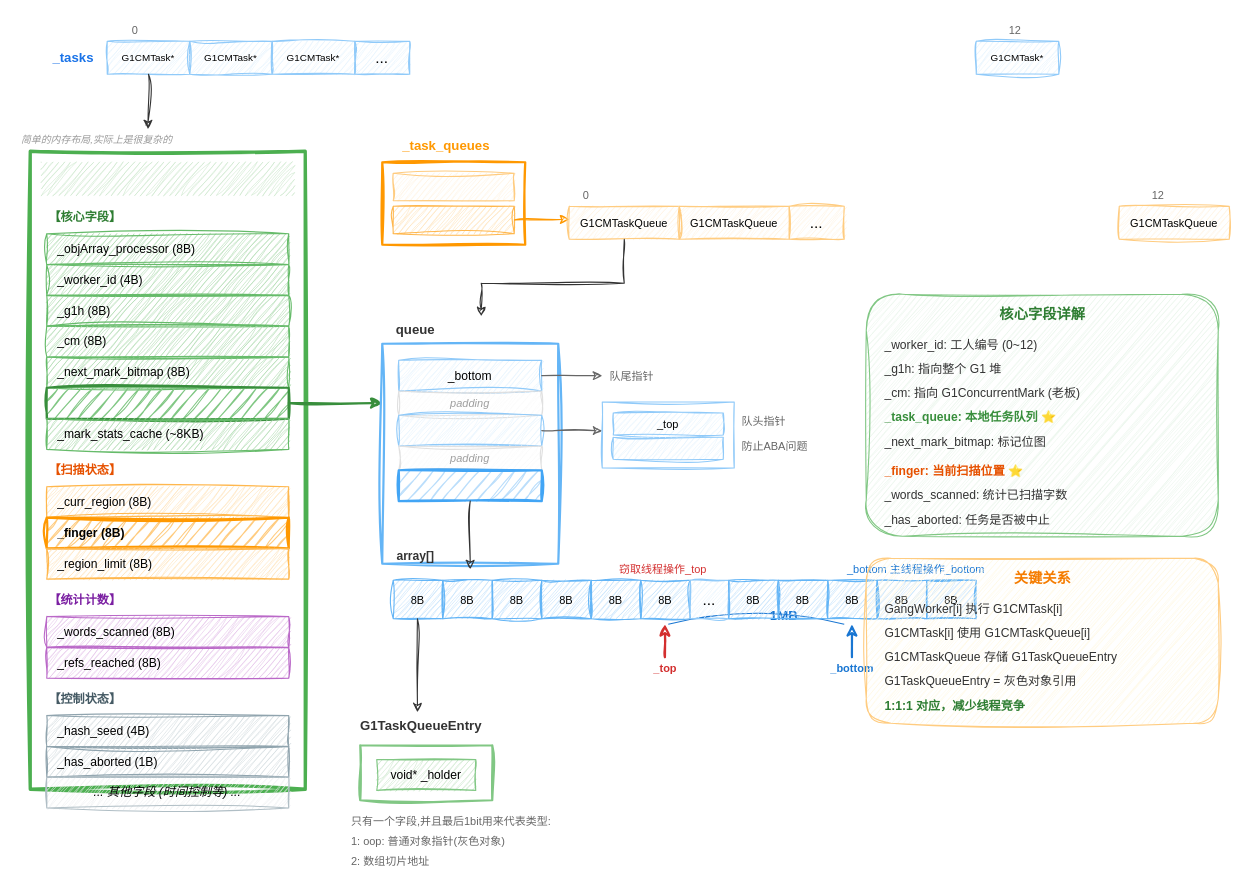
The diagram is 1249 pixels wide and 889 high, and some of its shapes have lost their labels. The centre of each missing label's shape, as x and y in pixels:
"_age" belongs at point (470, 430).
"_elems" belongs at point (469, 485).
"_n = 13" belongs at point (453, 186).
"_queues" belongs at point (453, 219).
"_tag" belongs at point (667, 447).
"_task_queue (8B)" belongs at point (167, 402).
"G1CMTask 对象" belongs at point (167, 178).
